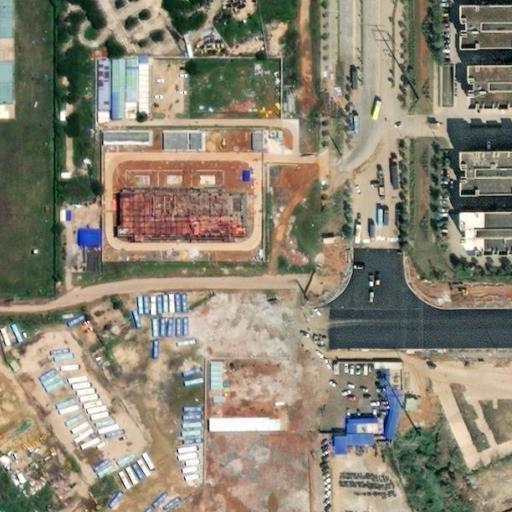building: (137, 204, 254, 236), (467, 62, 512, 106), (469, 213, 512, 257), (469, 3, 512, 46), (471, 154, 512, 197), (137, 186, 234, 204), (367, 388, 395, 441), (131, 65, 153, 125), (213, 413, 268, 433), (0, 69, 25, 111), (34, 364, 66, 396), (113, 69, 125, 132), (121, 139, 168, 154), (153, 70, 164, 114), (339, 413, 370, 427), (94, 234, 117, 251), (247, 129, 264, 152), (179, 141, 203, 157), (339, 435, 366, 447), (367, 376, 391, 389), (0, 111, 28, 121), (203, 138, 217, 157), (206, 96, 219, 113), (327, 439, 340, 456), (223, 397, 235, 414), (136, 235, 154, 245), (270, 140, 279, 157), (75, 215, 86, 227), (361, 426, 375, 435), (74, 227, 82, 240), (339, 427, 350, 436), (347, 111, 353, 127), (222, 110, 238, 115), (397, 369, 407, 377), (261, 118, 270, 124), (285, 119, 296, 123)
